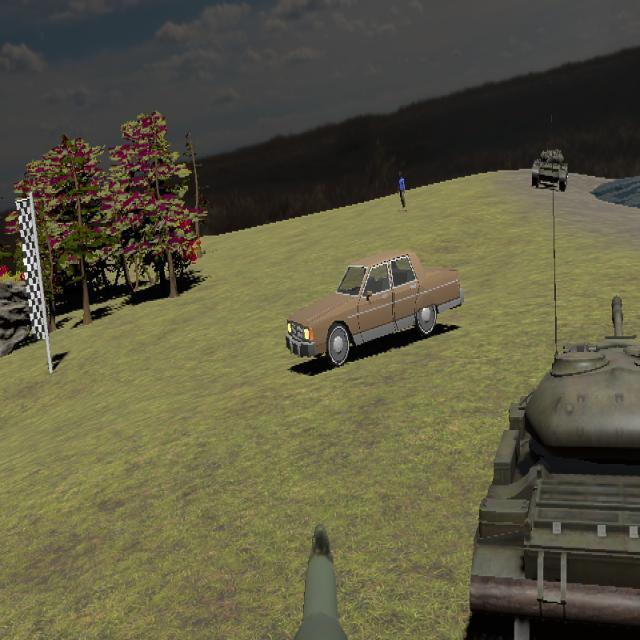Tank: (467, 331, 640, 638), (532, 147, 568, 193)
car: (285, 252, 463, 366)
